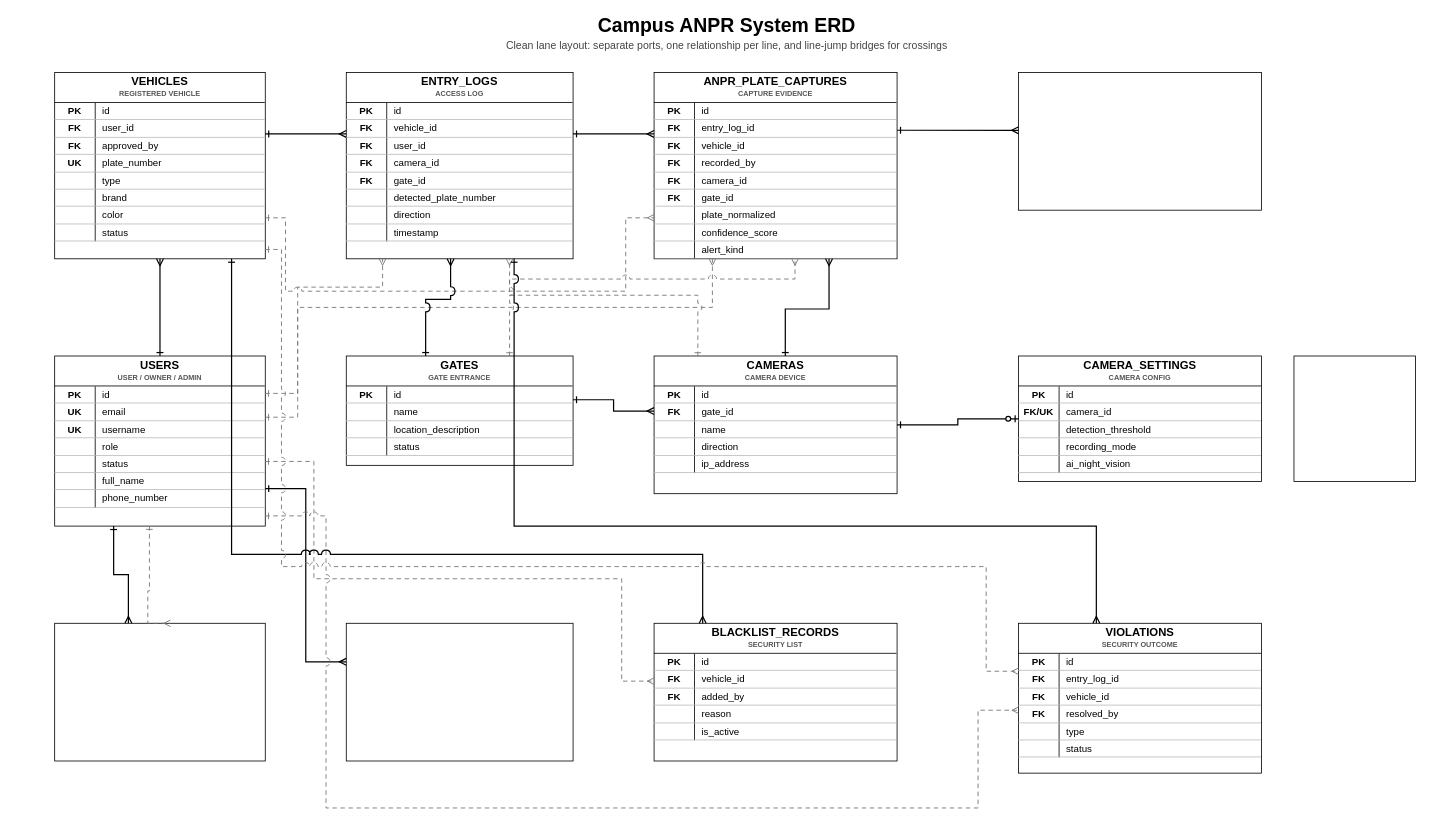
The diagram is 1453 pixels wide and 830 high, and some of its shapes have lost their labels. Here are the shapes that lost their labels. From the top down, the centre of each, then its label:
point 1140,141: ANPR_ANOMALY_EVENTS ALERT PK id FK capture_id kind status created_at
point 1354,418: SETTINGS NO FK PK key value description
point 159,691: OCR_SCANS REGISTRATION OCR PK id FK user_id FK verified_by scan_type is_verified
point 459,691: NOTIFICATIONS USER NOTIFICATION PK id FK user_id title message is_read
